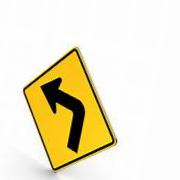left: (21, 47, 118, 171)
